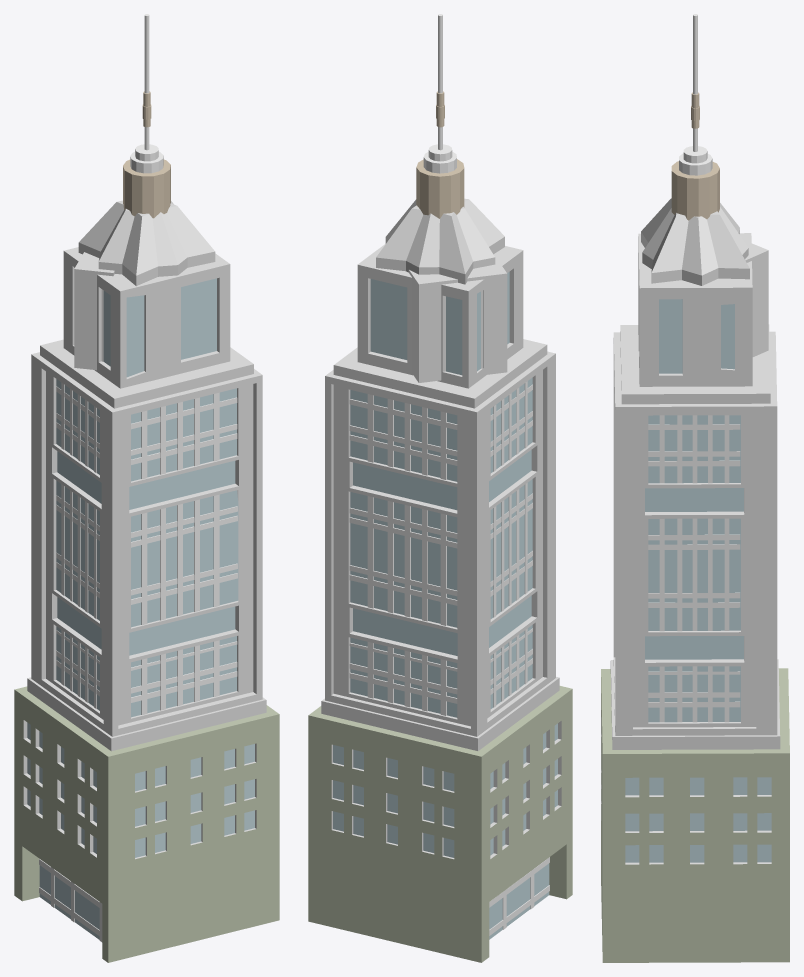
The model's file is building_tower.glb.
3 renders of one model, left to right at view 1: azimuth 30°, elevation 25°; view 2: azimuth 150°, elevation 25°; view 3: azimuth 270°, elevation 25°, orthographic.
Parts seen in each view (by area): view 1: Building_tower; view 2: Building_tower; view 3: Building_tower.
Part boxes in pixels (x1=…): Building_tower: x1=14, y1=14, x2=279, y2=962; Building_tower: x1=308, y1=14, x2=572, y2=962; Building_tower: x1=601, y1=14, x2=789, y2=962.
Size of the model in its own units: 19.91 by 97.9 by 18.53.
